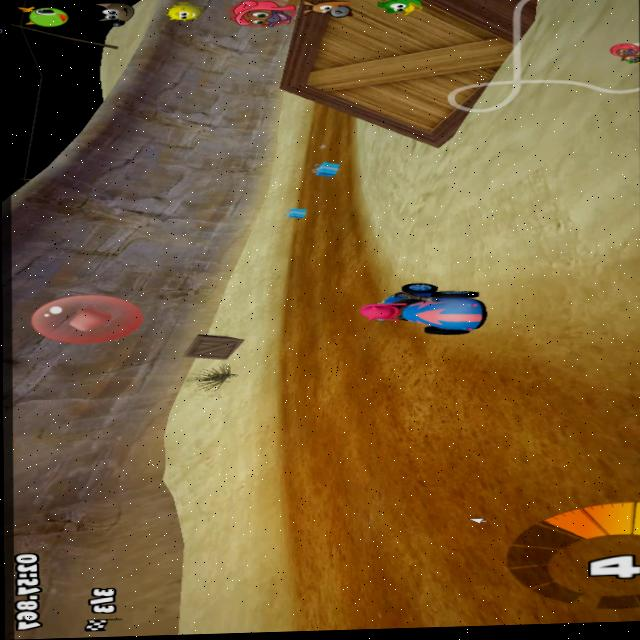bonus: (307, 156, 343, 177), (291, 204, 307, 219)
player_kart: (351, 275, 491, 339)
